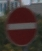No entry: (5, 5, 37, 46)
